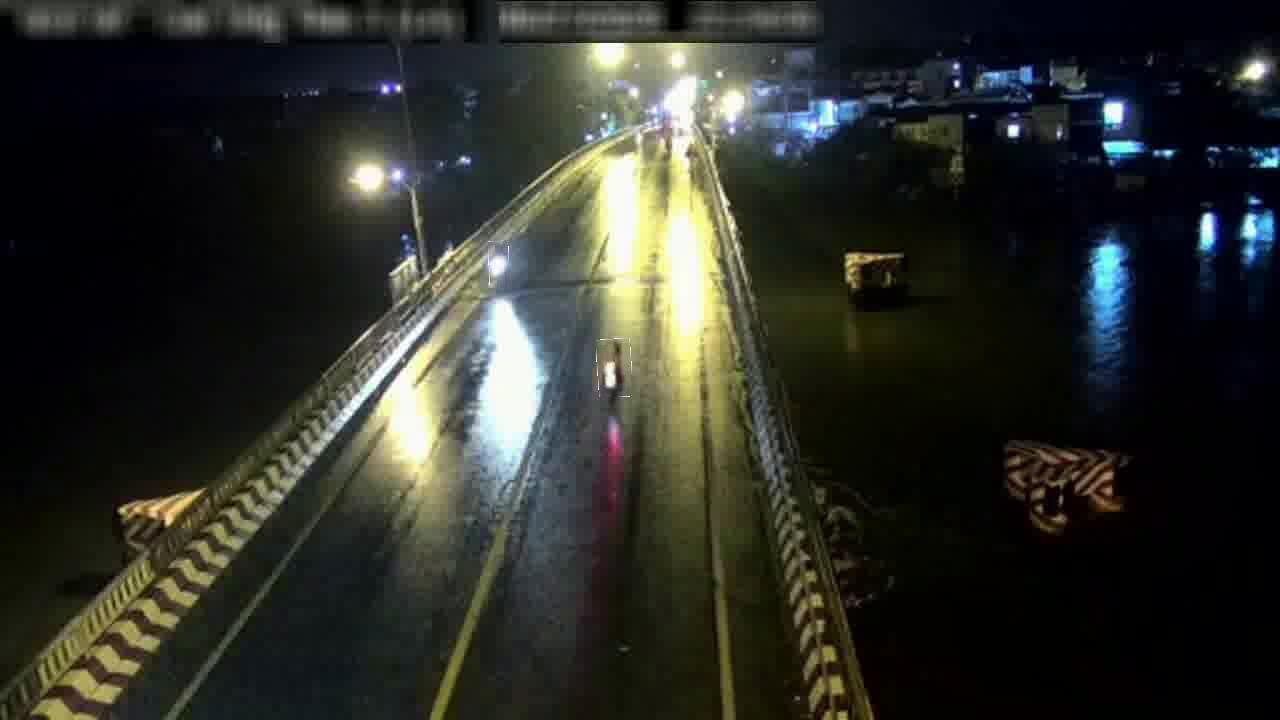motorbike: (597, 338, 633, 398), (488, 241, 510, 289)
